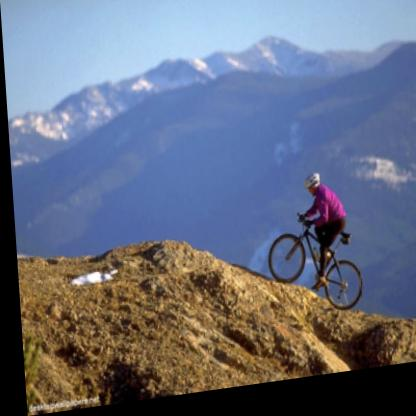With Helmet: (299, 180, 318, 205)
